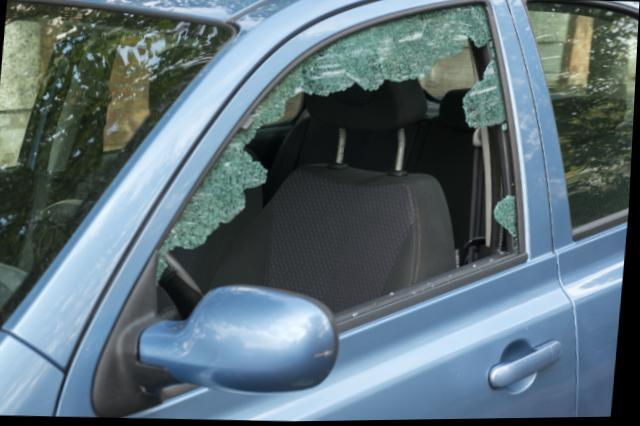glass shatter: (159, 4, 522, 322)
